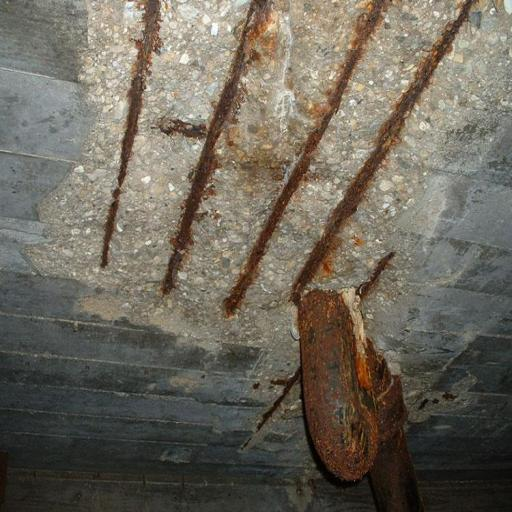segmentation: (285, 278, 415, 488)
